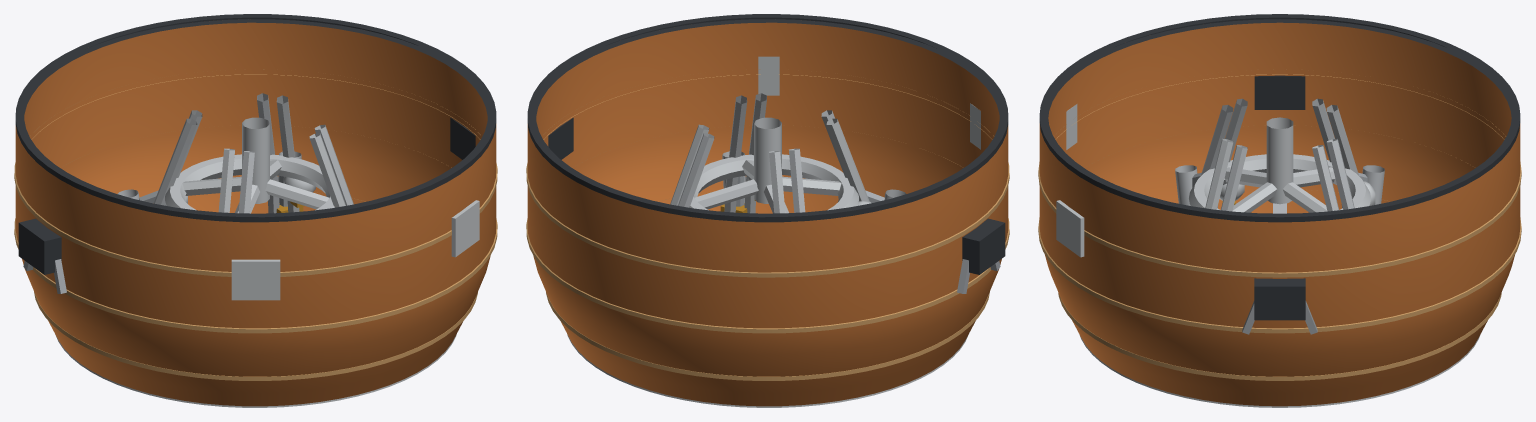
The model's file is thrust_sls_l.glb.
3 views of the same model, side by side, from view 1: azimuth 30°, elevation 25°; view 2: azimuth 150°, elevation 25°; view 3: azimuth 270°, elevation 25° (orthographic).
Visible parts, largest first — view 1: skin, slot_feed__prevalves, slot_feed; view 2: skin, slot_feed__prevalves, slot_feed; view 3: skin, slot_feed__prevalves, slot_feed, structure.
Part boxes in pixels (box(x1,y1,x2,y2)): skin: box(14, 14, 497, 407); slot_feed__prevalves: box(139, 117, 334, 213); slot_feed: box(153, 93, 353, 213); skin: box(526, 14, 1009, 407); slot_feed__prevalves: box(689, 117, 884, 213); slot_feed: box(670, 93, 869, 213); skin: box(1038, 14, 1521, 407); slot_feed__prevalves: box(1189, 117, 1370, 212); slot_feed: box(1201, 98, 1358, 211); structure: box(1175, 165, 1384, 213).
Size of the model in its own units: 3.63 by 1.6 by 3.39.
